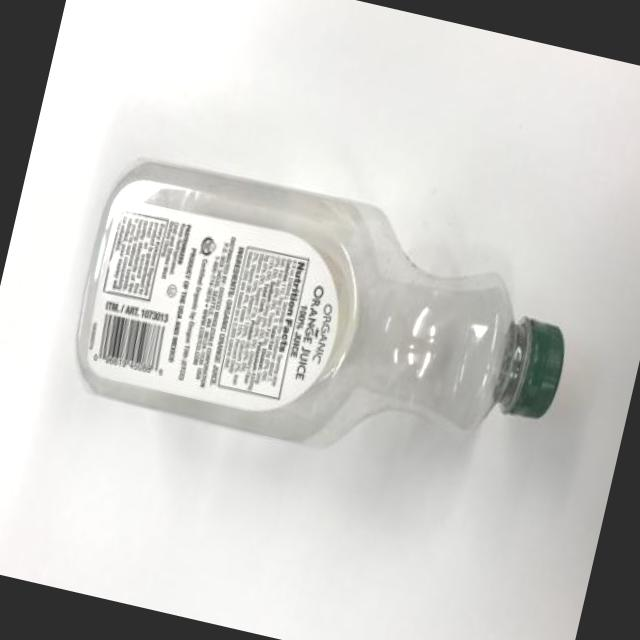Recycle: (58, 137, 596, 503)
